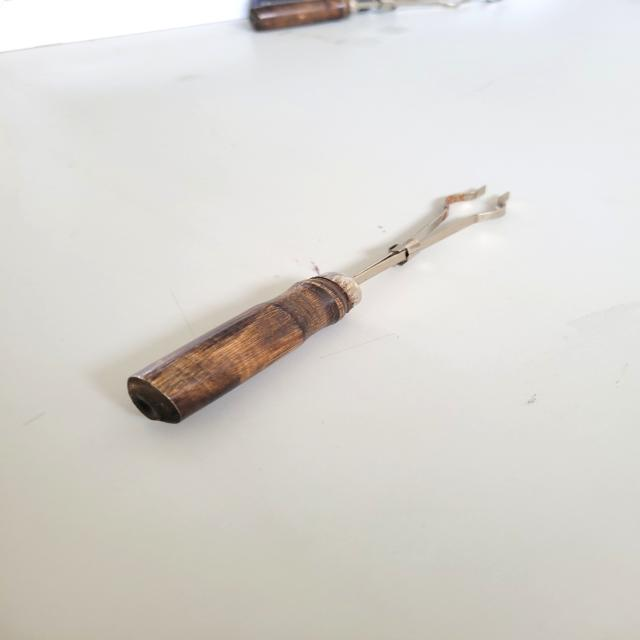TestTube_Holder: (94, 173, 517, 440)
